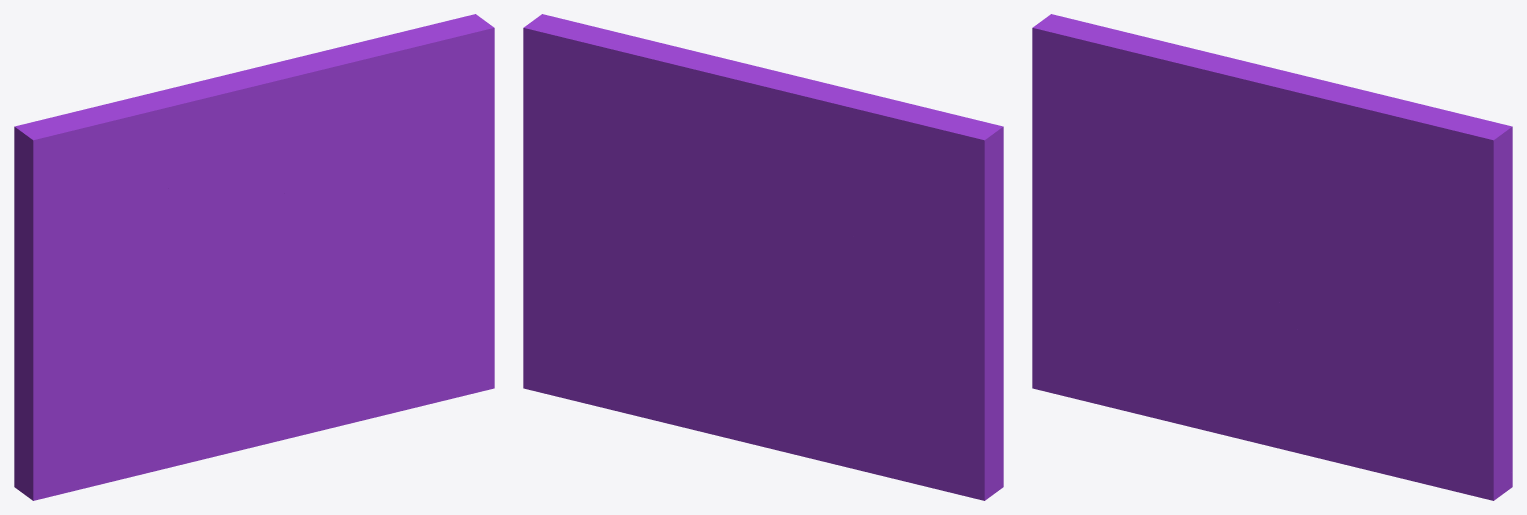
Rendered from Barrier_98_chunks.fbx.
3 renders of one model, left to right at view 1: azimuth 30°, elevation 25°; view 2: azimuth 150°, elevation 25°; view 3: azimuth 330°, elevation 25°, orthographic.
Parts seen in each view (by area): view 1: Barrier_98_0, Barrier_98_1, Barrier_98_2, Barrier_98_5, Barrier_98_4, Barrier_98_6; view 2: Barrier_98_1, Barrier_98_0, Barrier_98_2, Barrier_98_3, Barrier_98_4, Barrier_98_6; view 3: Barrier_98_1, Barrier_98_0, Barrier_98_2, Barrier_98_5, Barrier_98_4, Barrier_98_6.
Boxes of the visible parts, bbox=[...] form: Barrier_98_0: bbox=[14, 133, 267, 500]; Barrier_98_1: bbox=[261, 14, 494, 394]; Barrier_98_2: bbox=[14, 39, 371, 237]; Barrier_98_5: bbox=[150, 285, 340, 472]; Barrier_98_4: bbox=[292, 343, 469, 437]; Barrier_98_6: bbox=[274, 288, 376, 353]; Barrier_98_1: bbox=[523, 14, 733, 371]; Barrier_98_0: bbox=[780, 119, 1003, 500]; Barrier_98_2: bbox=[627, 48, 994, 275]; Barrier_98_3: bbox=[688, 268, 927, 486]; Barrier_98_4: bbox=[523, 331, 729, 438]; Barrier_98_6: bbox=[599, 257, 759, 356]; Barrier_98_1: bbox=[1260, 101, 1512, 500]; Barrier_98_0: bbox=[1032, 21, 1266, 412]; Barrier_98_2: bbox=[1041, 14, 1408, 236]; Barrier_98_5: bbox=[1149, 287, 1339, 451]; Barrier_98_4: bbox=[1291, 391, 1512, 494]; Barrier_98_6: bbox=[1273, 293, 1375, 398].
Bounding box in the file's own units: 385 × 288 × 27.2.
